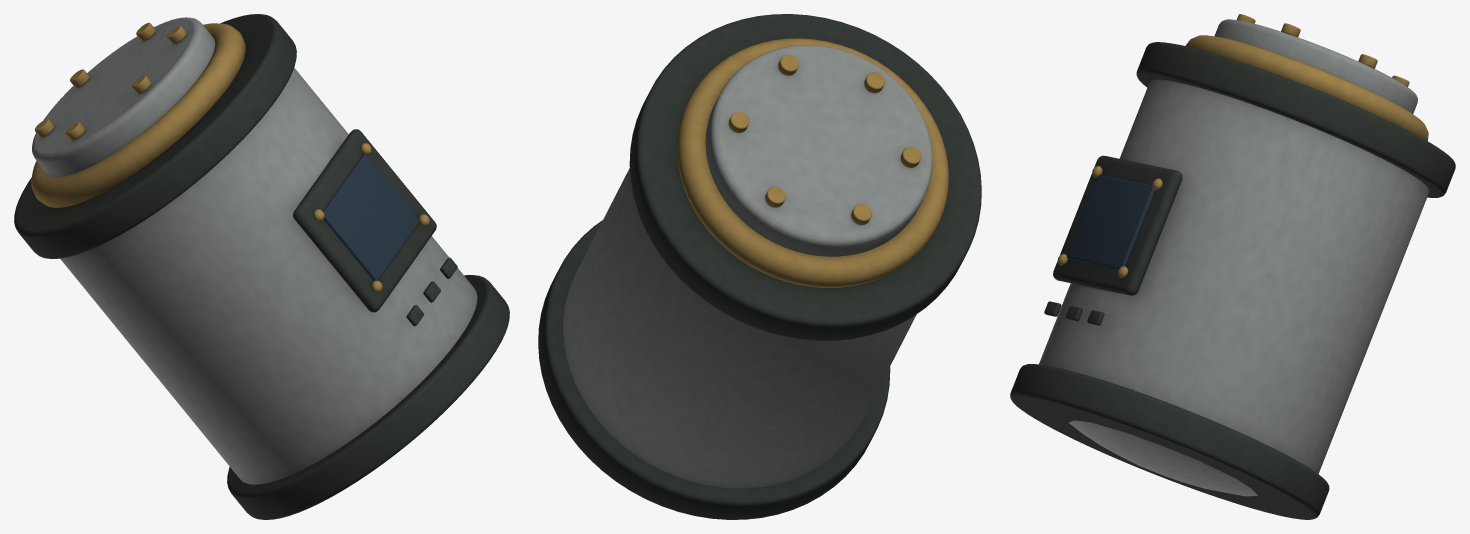
3 views of the same model, side by side, from view 1: azimuth 30°, elevation 25°; view 2: azimuth 150°, elevation 25°; view 3: azimuth 270°, elevation 25° (orthographic). The views are drawn at different scales.
Visible parts, largest first — view 1: Pressure shell; view 2: Pressure shell; view 3: Pressure shell.
Part boxes in pixels (x1,y1,x2,y2): Pressure shell: [14, 14, 509, 519]; Pressure shell: [538, 14, 981, 519]; Pressure shell: [1010, 14, 1455, 519].
Bounding box in the file's own units: 1.2 × 1.28 × 1.13.
1 material, 1 textured.
